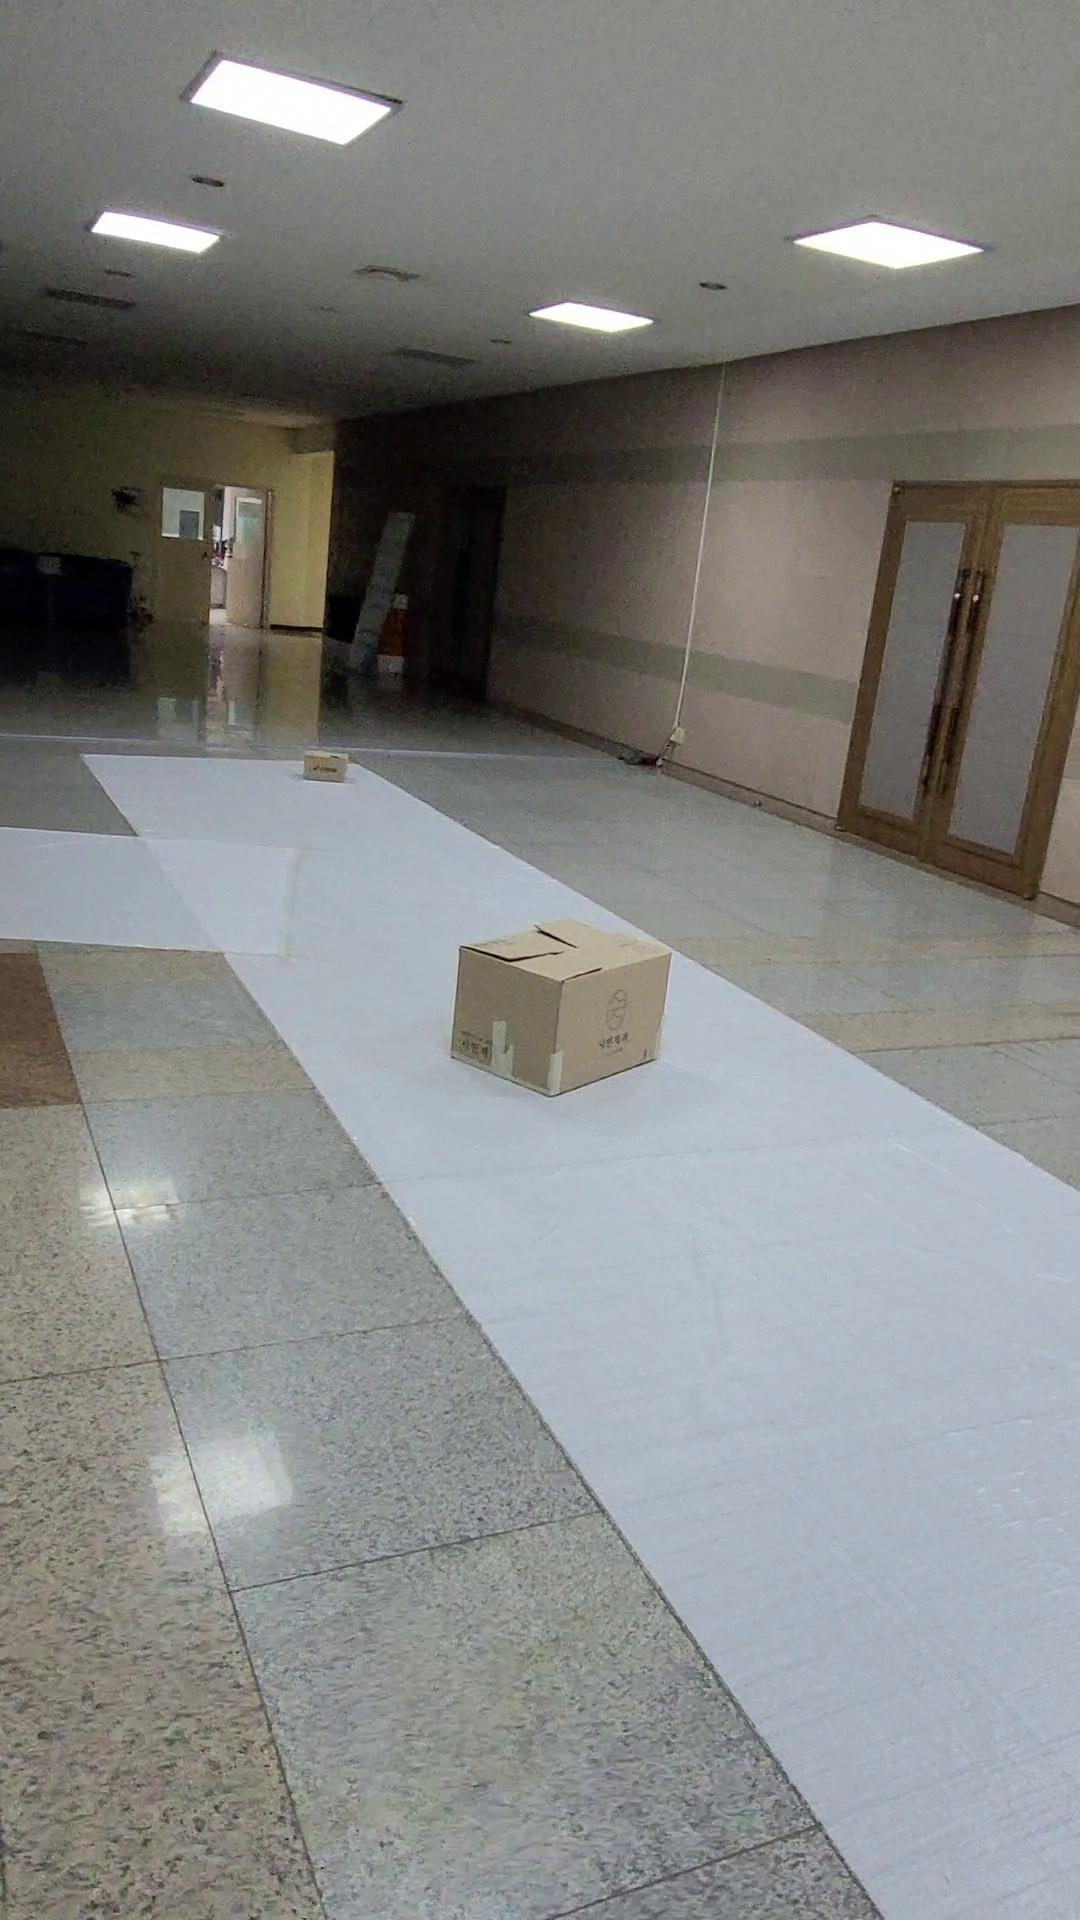Box: (458, 918, 667, 1095), (298, 748, 357, 790)
